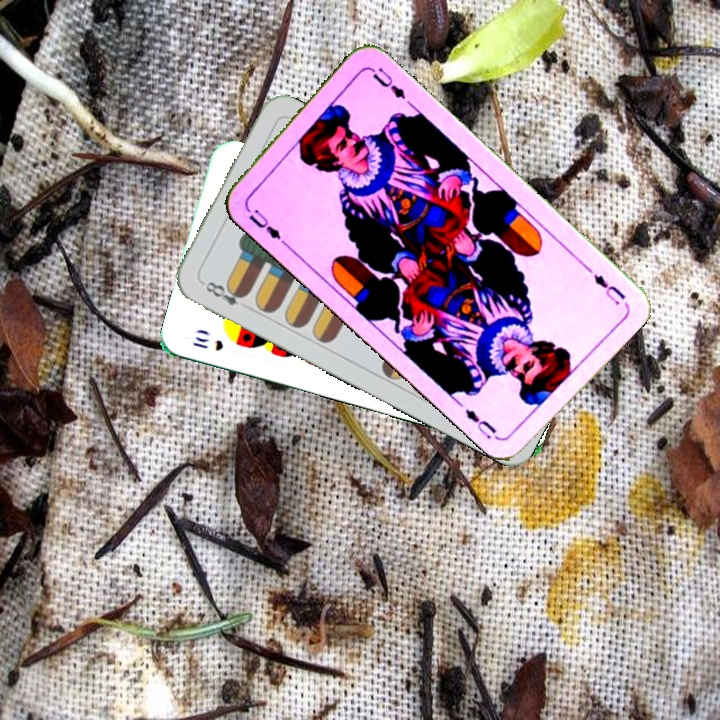E8: (197, 277, 250, 308)
EU: (244, 205, 289, 247), (589, 269, 629, 308)
S10: (188, 332, 226, 354)
